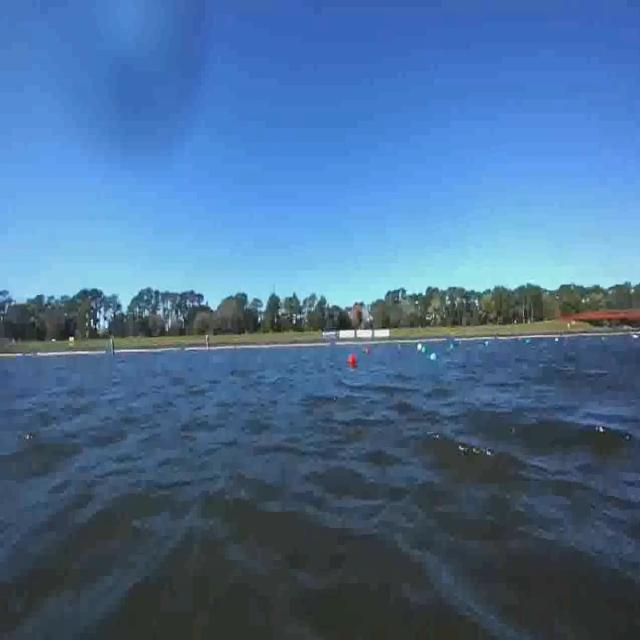red-buoy: (349, 352, 357, 368)
